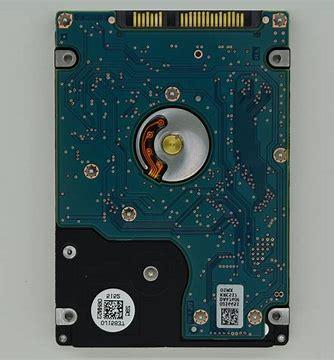internal HDD: (51, 6, 291, 350)
